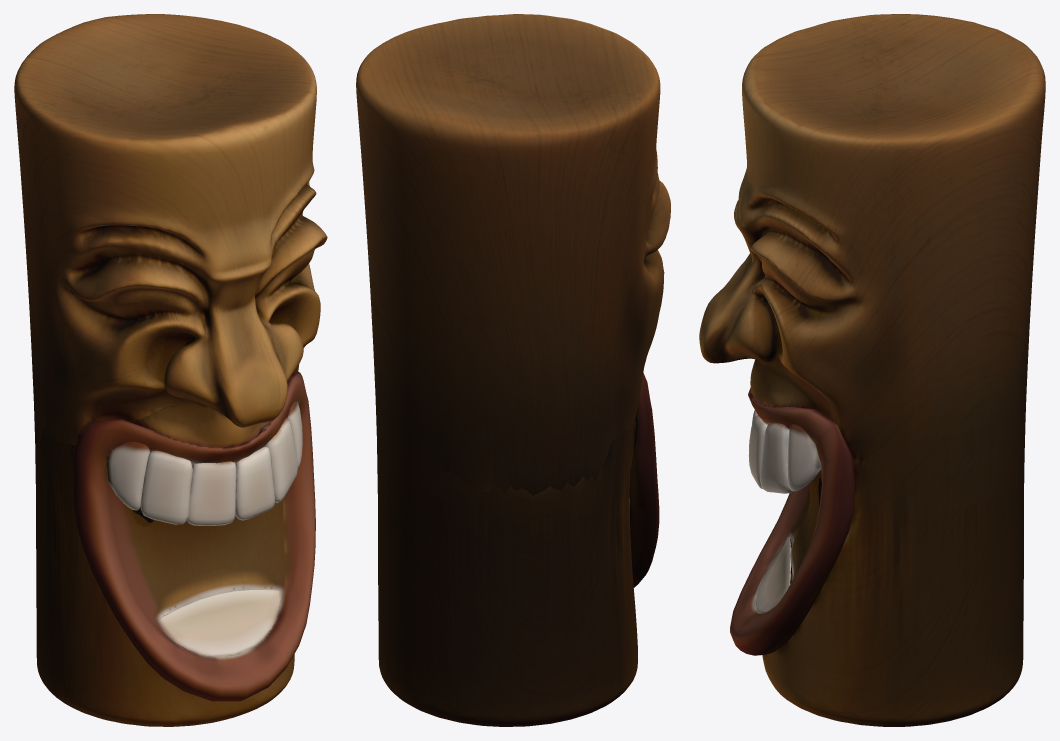
The model's file is koreanTotem.glb.
3 views of the same model, side by side, from view 1: azimuth 30°, elevation 25°; view 2: azimuth 150°, elevation 25°; view 3: azimuth 270°, elevation 25° (orthographic).
Bounding box in the file's own units: 0.0232 × 0.0519 × 0.0264.
Materials: 1 (1 with a texture image).
